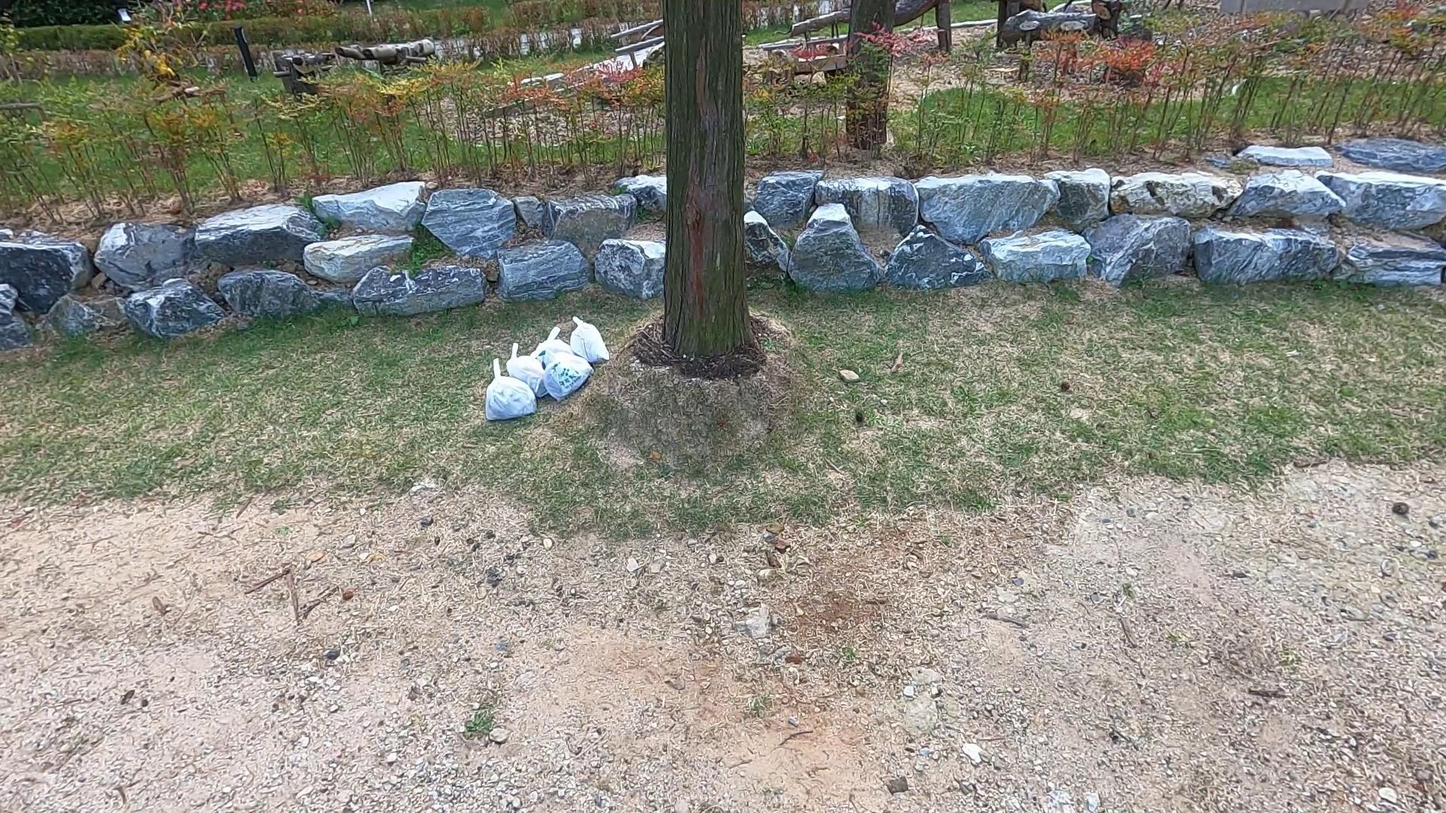trash: (476, 354, 534, 420), (536, 340, 594, 405), (500, 345, 557, 403), (562, 316, 615, 370), (533, 325, 584, 378)
